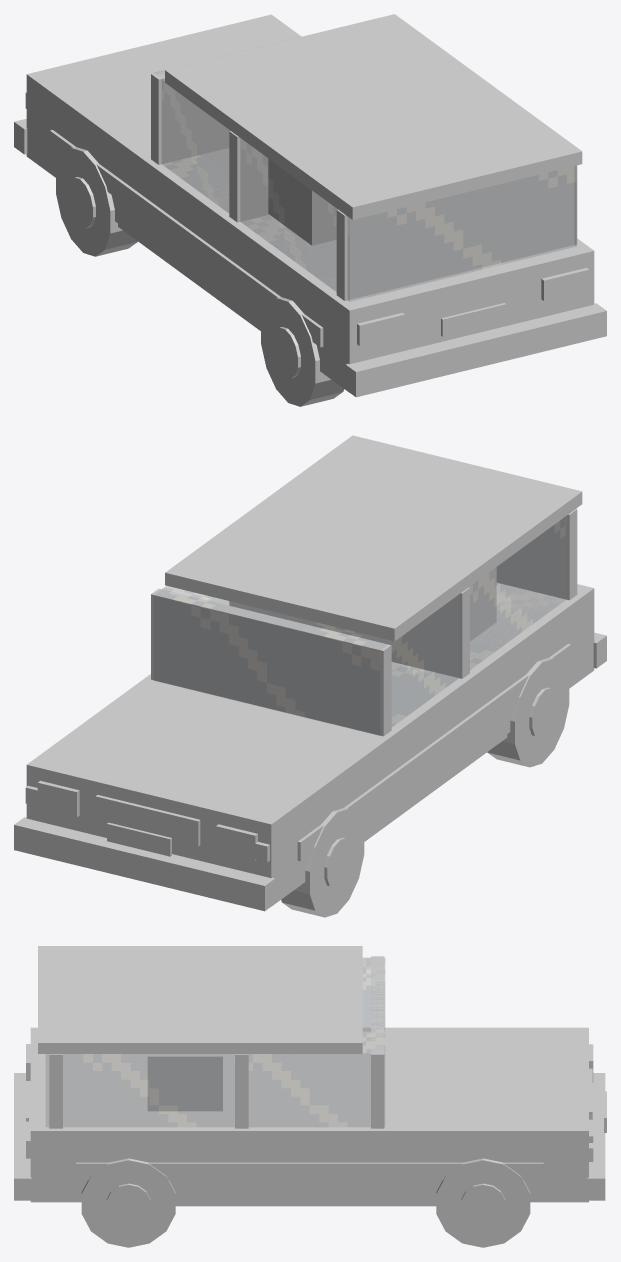
File: car_b_yellow.glb
The picture shows the model from 3 angles, top to bottom: view 1: azimuth 30°, elevation 25°; view 2: azimuth 150°, elevation 25°; view 3: azimuth 270°, elevation 25°; orthographic projection. The views are drawn at different scales.
Visible parts, largest first — view 1: gas_station_town; view 2: gas_station_town; view 3: gas_station_town.
Boxes of the visible parts, x1,y1,x2,y2 form: gas_station_town: [14, 14, 606, 406]; gas_station_town: [14, 435, 606, 917]; gas_station_town: [14, 946, 606, 1247].
Size of the model in its own units: 1.72 by 1.46 by 3.93.
Materials: 2 (1 with a texture image).
